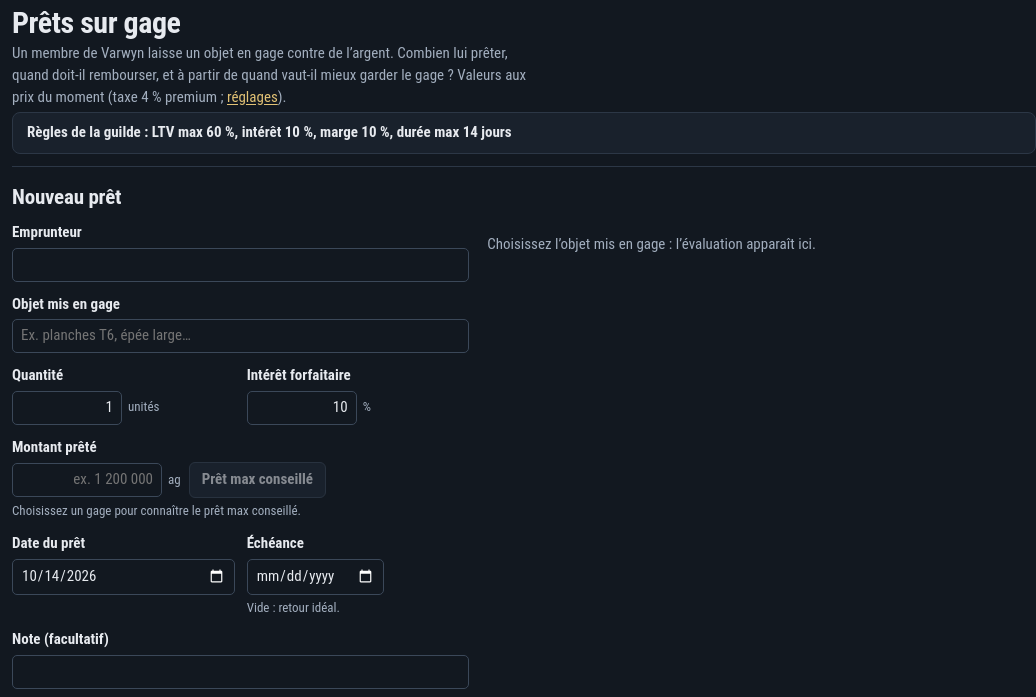
Scenario: page Prêts sur gage — évaluation › API saturée (429) : estimation sans historique, signalée
Replace the text in the field labelled "Quantité" with "1000" at (67,408), box x1=12 y1=391 x2=122 y2=425
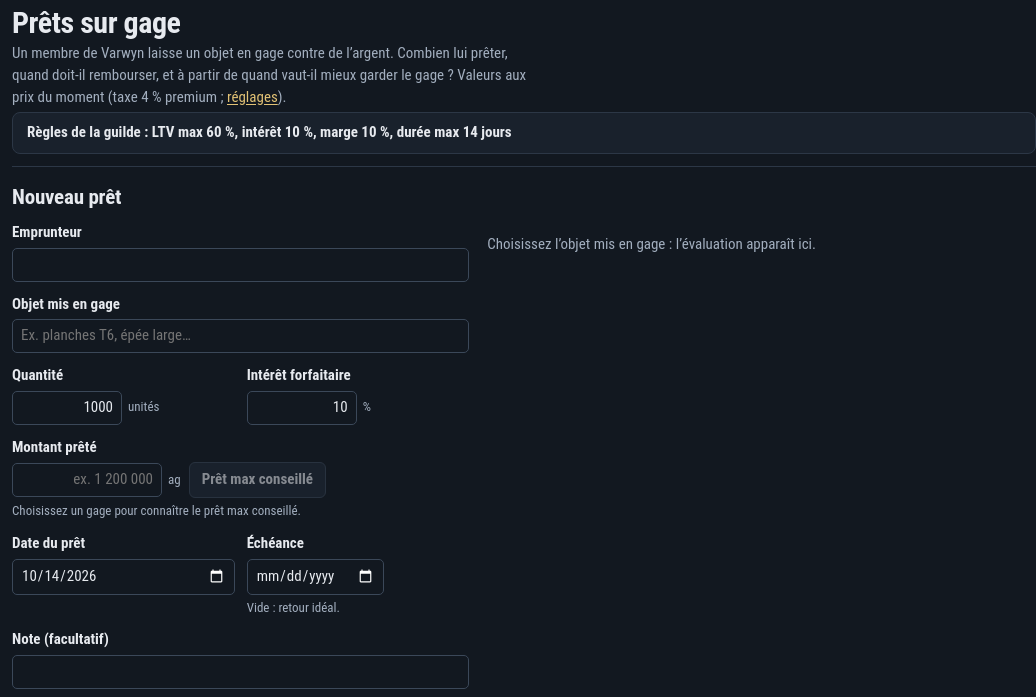
Type "chêne sanguin" into the search field labelled "Objet mis en gage" at (241,336), box x1=12 y1=319 x2=469 y2=353
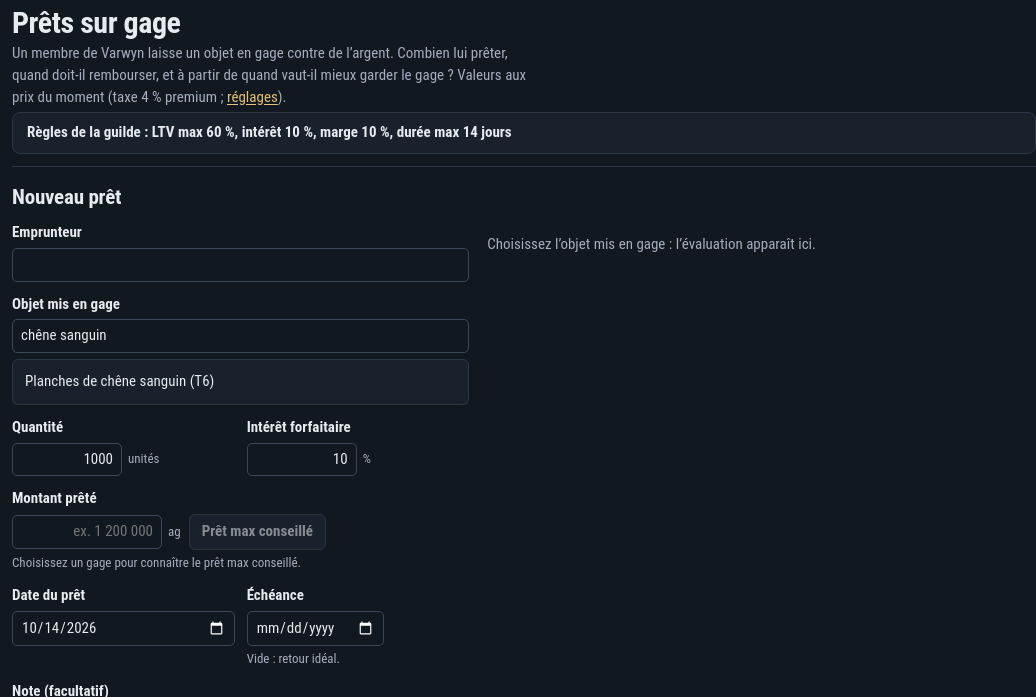
Click the button "Planches de chêne sanguin (T6)" at (120,381), box x1=17 y1=364 x2=464 y2=400
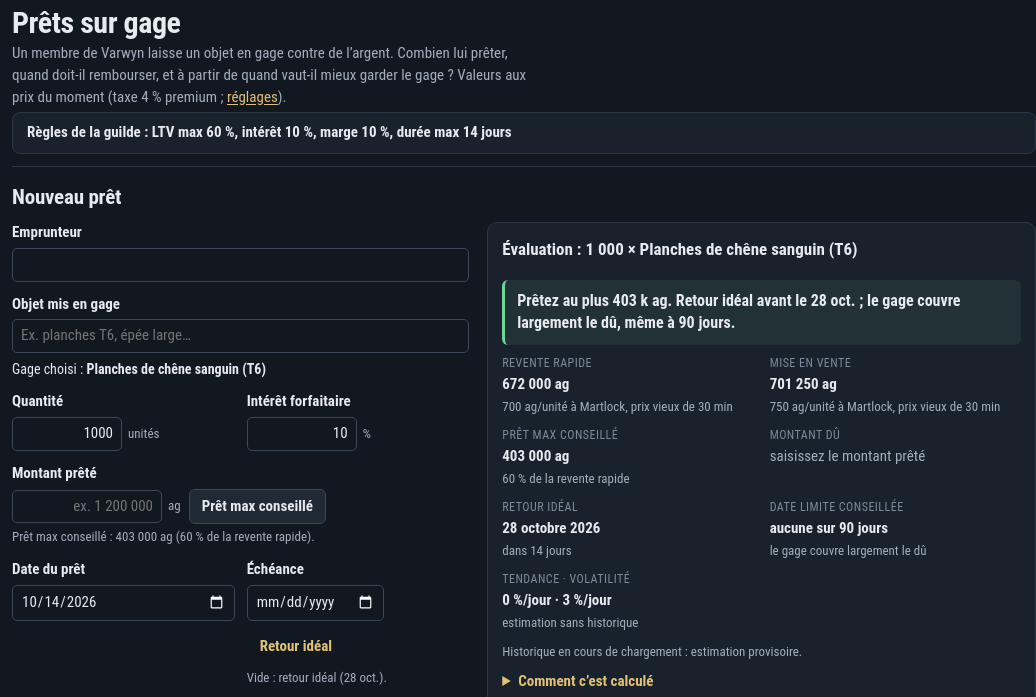
Type "403000" into the field labelled "Montant prêté" at (87,507), box x1=12 y1=490 x2=162 y2=524
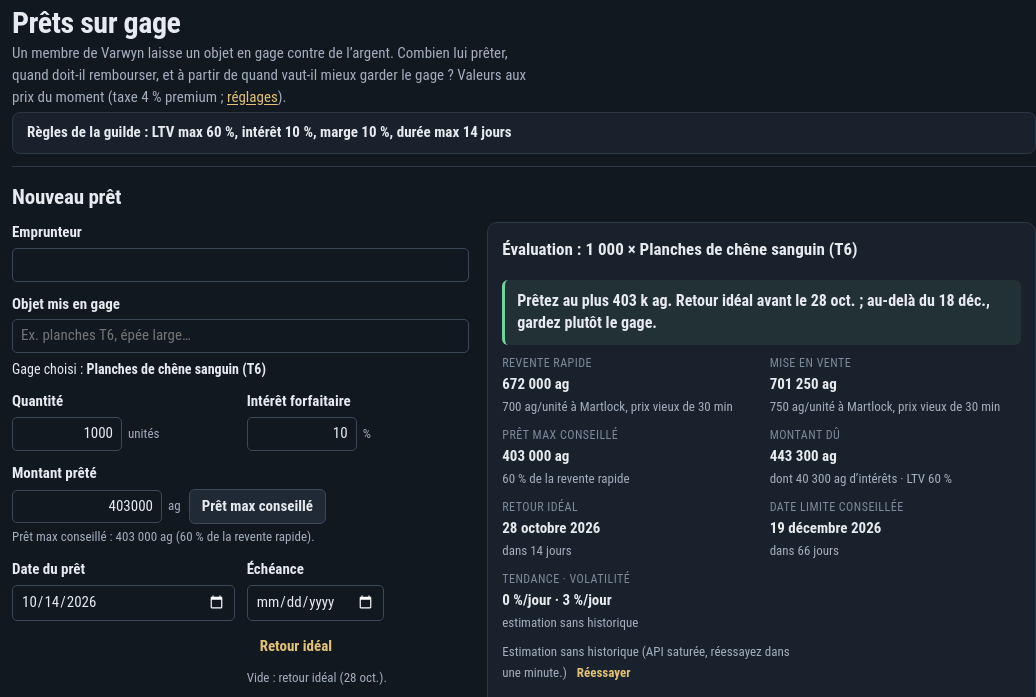
Expected: the element named "Valeur prudente du gage contre le montant dû" shows "estimation sans historique", x1=502 y1=615 x2=638 y2=630
Expected: the text with test id "gl-verdict" shows "Prêtez au plus 403 k ag. Retour idéal avant le 28 oct. ; au-delà du 18 déc., gardez plutôt le gage.", x1=517 y1=291 x2=990 y2=332
